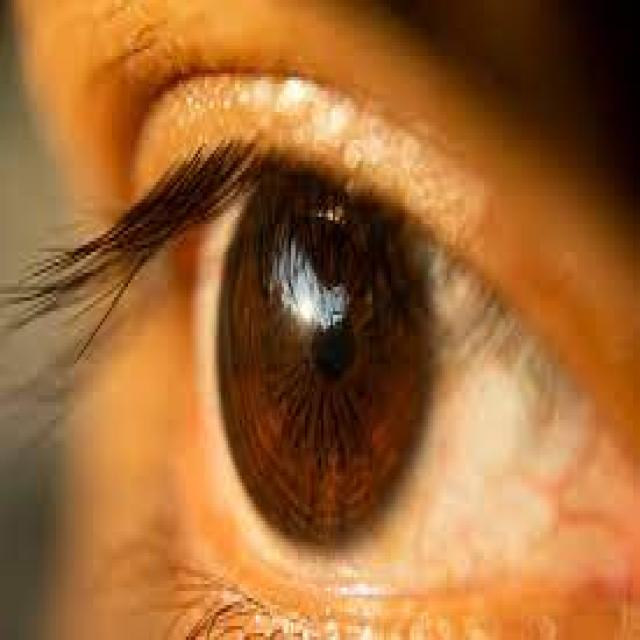Eyes-iris: (202, 157, 452, 568)
